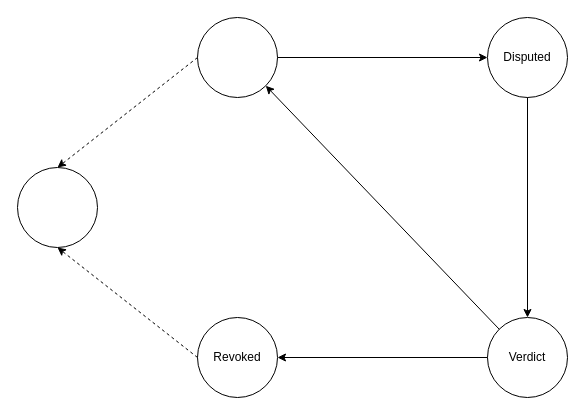
Some shapes in this 585 by 415 pixel diagram are drawn without their labels. The box of each missing label's shape, as (x1, y1, x2, y2) in pixels:
Active: (196, 16, 278, 98)
Voting: (16, 166, 98, 248)
